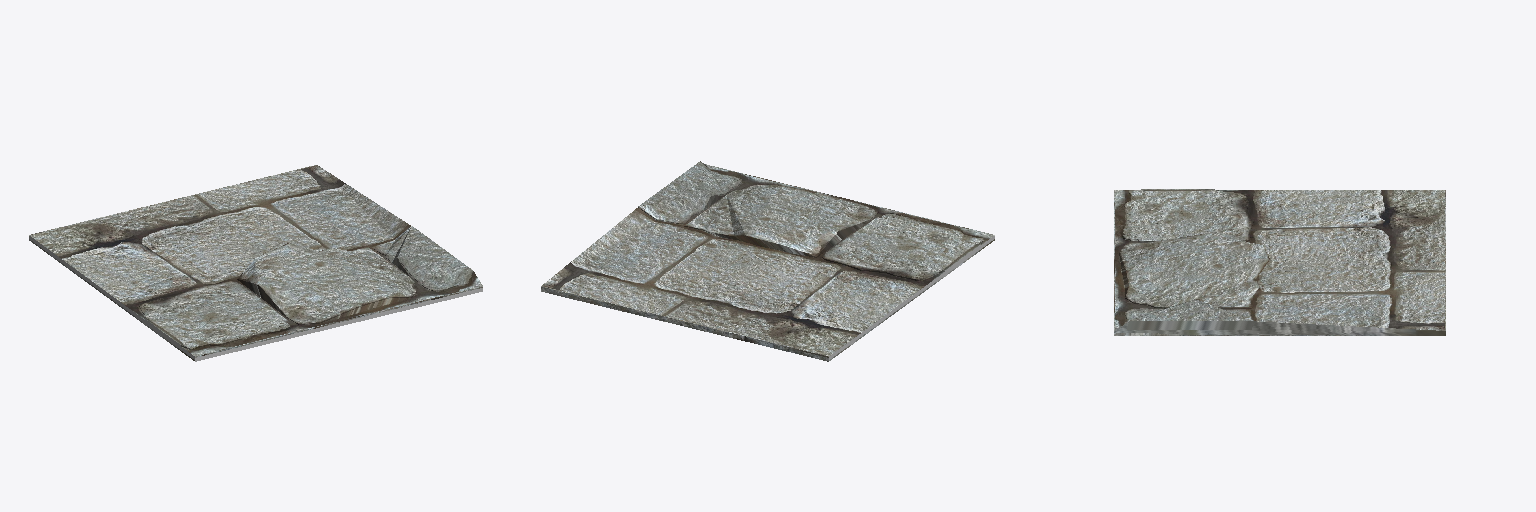
3 renders of one model, left to right at view 1: azimuth 30°, elevation 25°; view 2: azimuth 150°, elevation 25°; view 3: azimuth 270°, elevation 25°, orthographic.
Visible parts, largest first — view 1: Cube; view 2: Cube; view 3: Cube.
Part boxes in pixels (bbox=[...]): Cube: bbox=[29, 165, 482, 361]; Cube: bbox=[541, 161, 994, 361]; Cube: bbox=[1114, 189, 1445, 335].
Bounding box in the file's own units: 2 × 0.1303 × 2.
Materials: 1 (1 with a texture image).